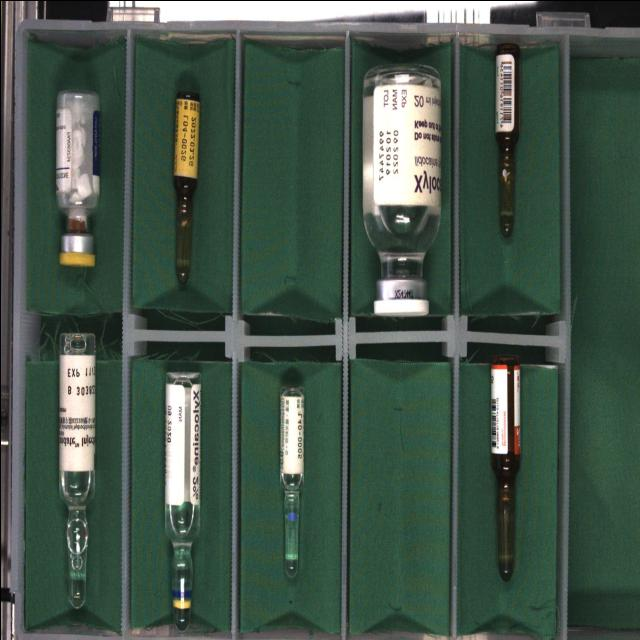Vials: (361, 64, 440, 315), (55, 90, 99, 266)
